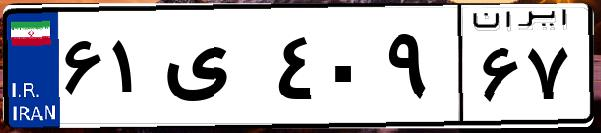0: (330, 28, 385, 110)
1: (110, 28, 158, 98)
4: (270, 28, 330, 110)
6: (57, 26, 110, 100), (475, 38, 525, 113)
7: (525, 38, 570, 115)
9: (385, 28, 445, 110)
ی: (158, 20, 270, 120)
